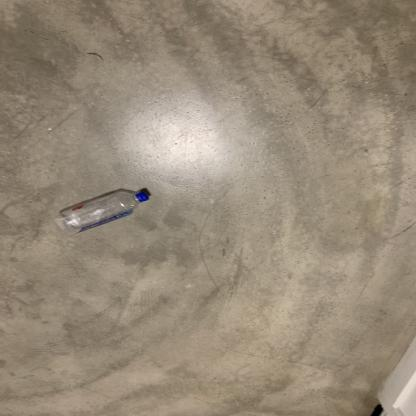trash: (53, 189, 152, 237)
